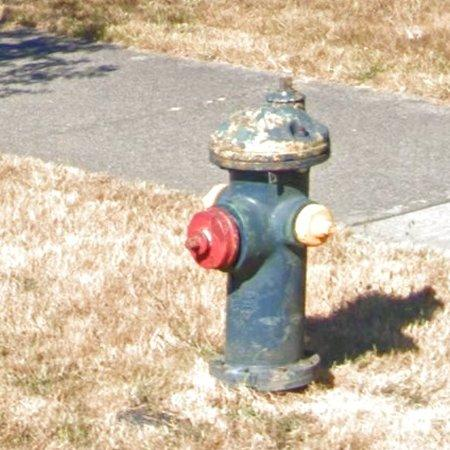a fire hydrant: (186, 78, 336, 392)
